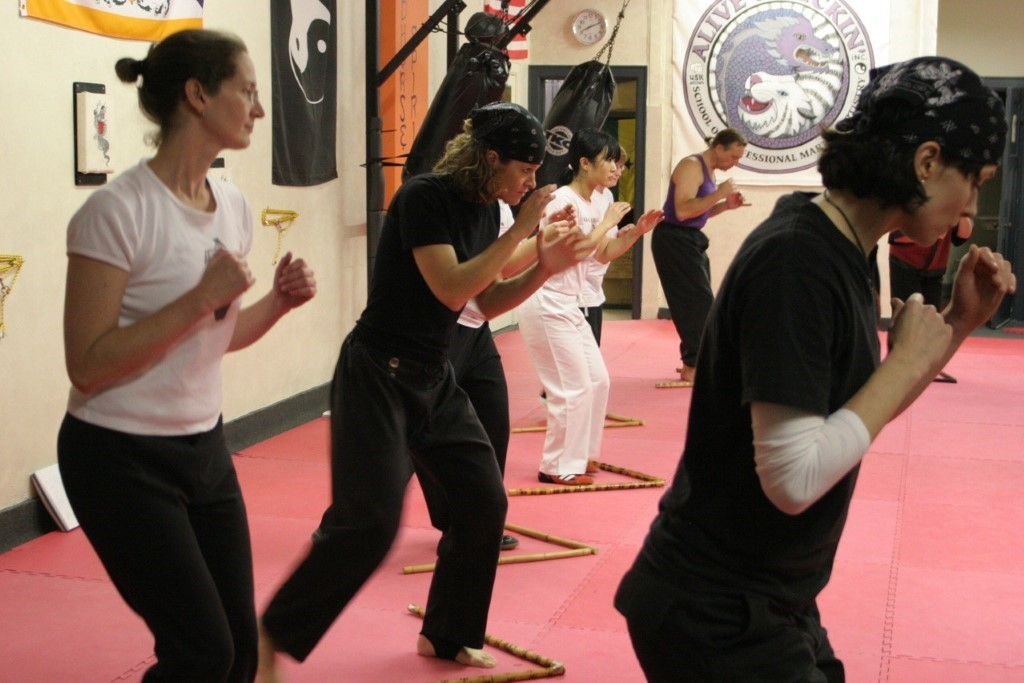baston_e: (417, 605, 546, 665), (407, 548, 587, 574), (516, 480, 655, 497), (506, 521, 581, 550), (515, 420, 638, 433), (594, 458, 652, 480), (658, 382, 694, 389)
baston_v: (550, 663, 569, 678), (502, 486, 516, 500), (544, 655, 557, 668), (406, 600, 419, 613), (399, 564, 410, 575), (635, 418, 647, 427), (655, 479, 668, 487), (653, 380, 662, 390), (584, 546, 593, 555), (509, 426, 518, 434), (675, 366, 681, 373)
